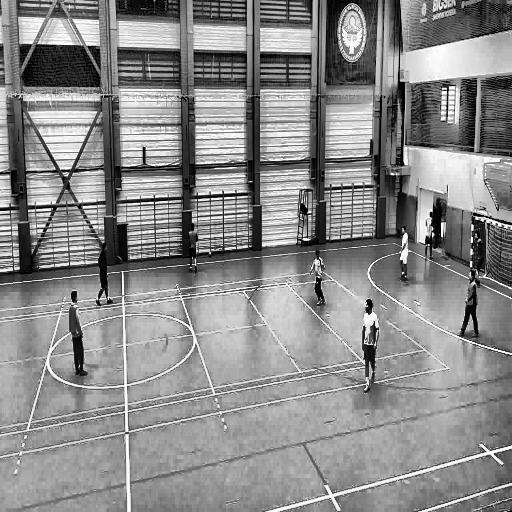player: (68, 285, 88, 378), (362, 299, 380, 395), (458, 269, 480, 341), (95, 242, 115, 308), (308, 248, 327, 309), (396, 222, 410, 283), (422, 210, 436, 262), (186, 220, 199, 275), (473, 230, 485, 286)
